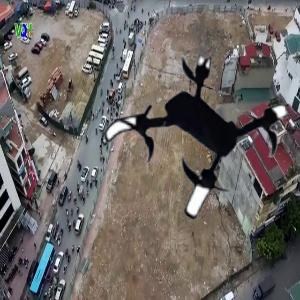drone: (102, 47, 291, 236)
